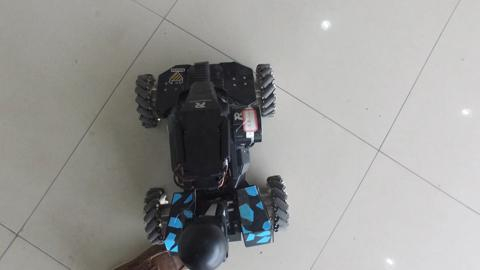chariot: (107, 56, 298, 262)
